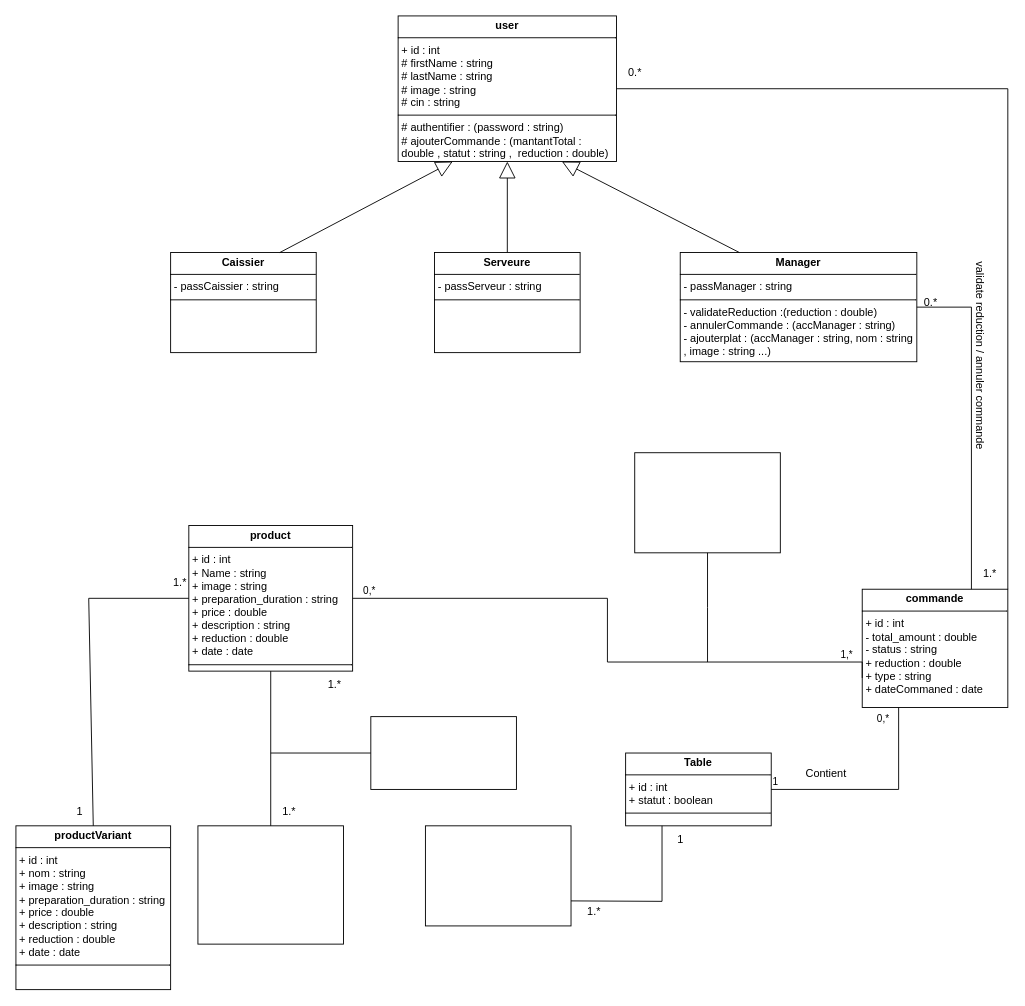
This 1025x1006 diagram has some shape labels left out. Each missing label, with the centre of its shape:
Categorie + id : int + nom : string + image : string + description : string: the point at 270,884
Levels + id : int + num : int: the point at 498,875
menuComposer + id : int + quantity : int + comment : string: the point at 707,502
product Categorie + id : int: the point at 443,752
